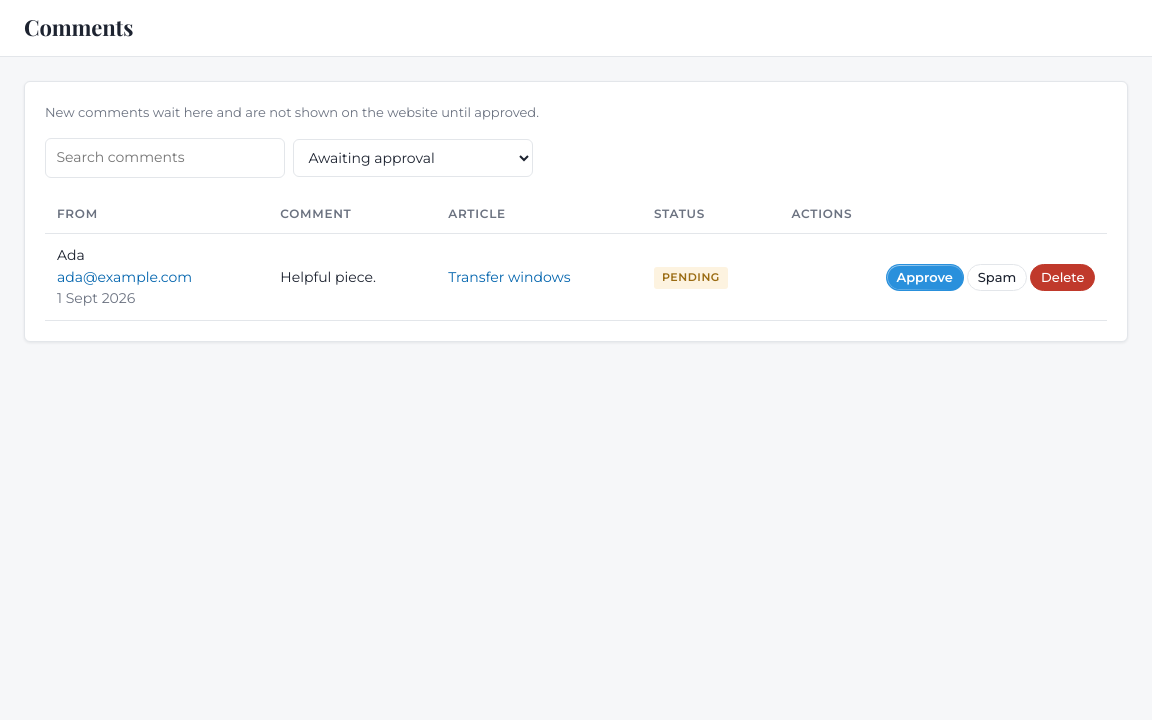
comment moderation › asks before deleting, and warns that replies go too
Click the button "Delete". click: (1063, 277)
box: [1030,264,1095,291]
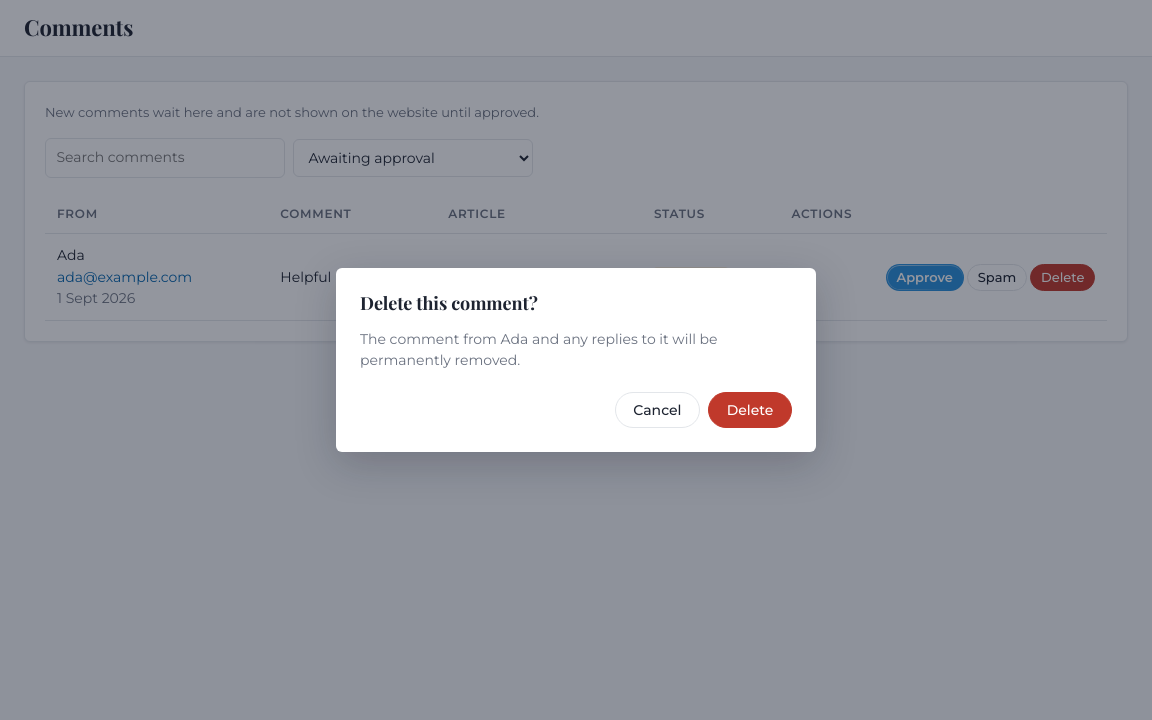
Now the text "any replies to it" is shown, box [360,330,718,369]
